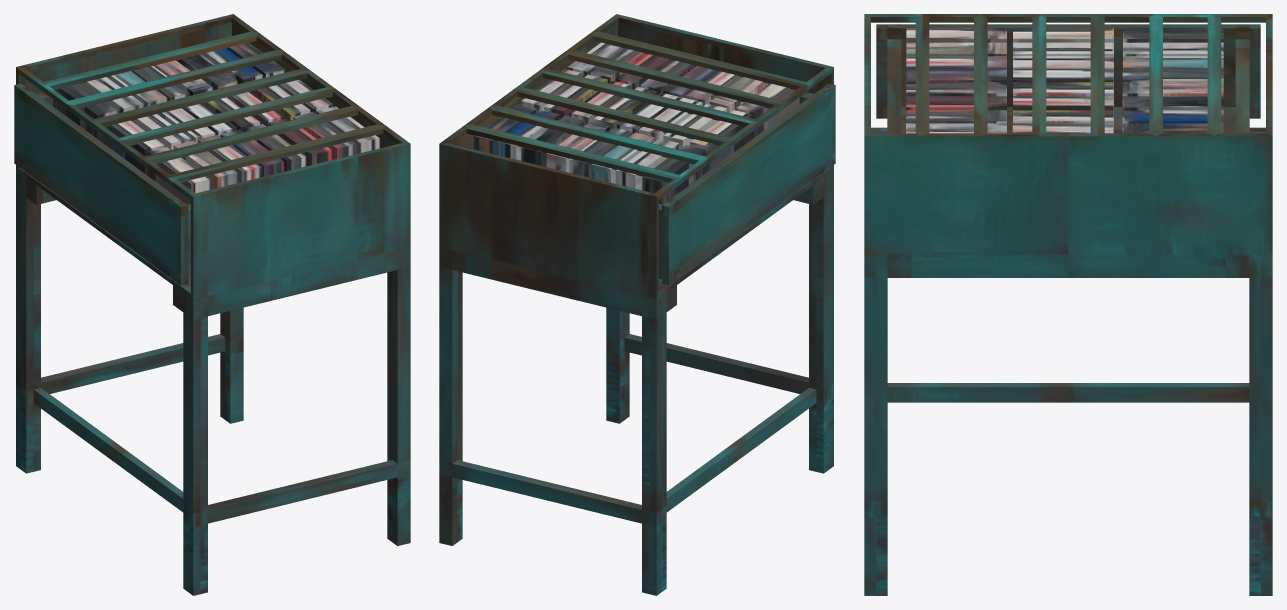
Rendered from mueble cassetes.fbx.
3 renders of one model, left to right at view 1: azimuth 30°, elevation 25°; view 2: azimuth 150°, elevation 25°; view 3: azimuth 270°, elevation 25°, orthographic. The views are drawn at different scales.
Parts seen in each view (by area): view 1: mueble cassetes; view 2: mueble cassetes; view 3: mueble cassetes.
Boxes of the visible parts, x1,y1,x2,y2 form: mueble cassetes: [14, 14, 410, 595]; mueble cassetes: [439, 14, 835, 595]; mueble cassetes: [864, 14, 1272, 595].
Size of the model in its own units: 89.1 by 151 by 122.
